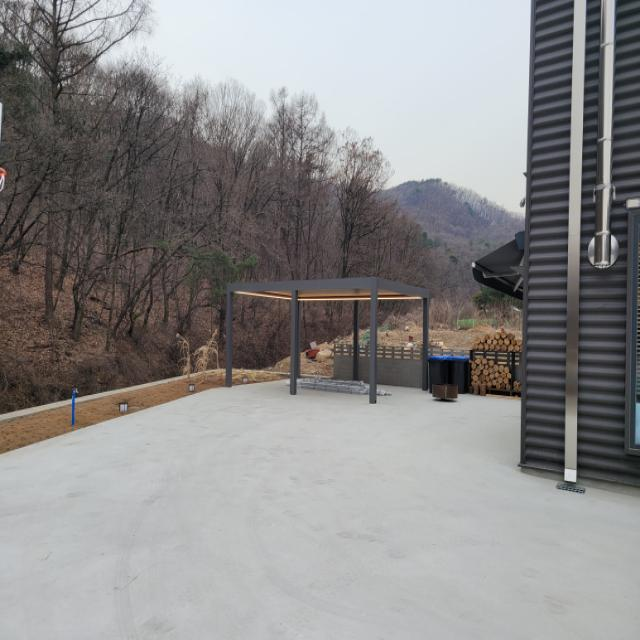cement: (0, 381, 639, 638)
red-sand: (0, 374, 223, 452)
